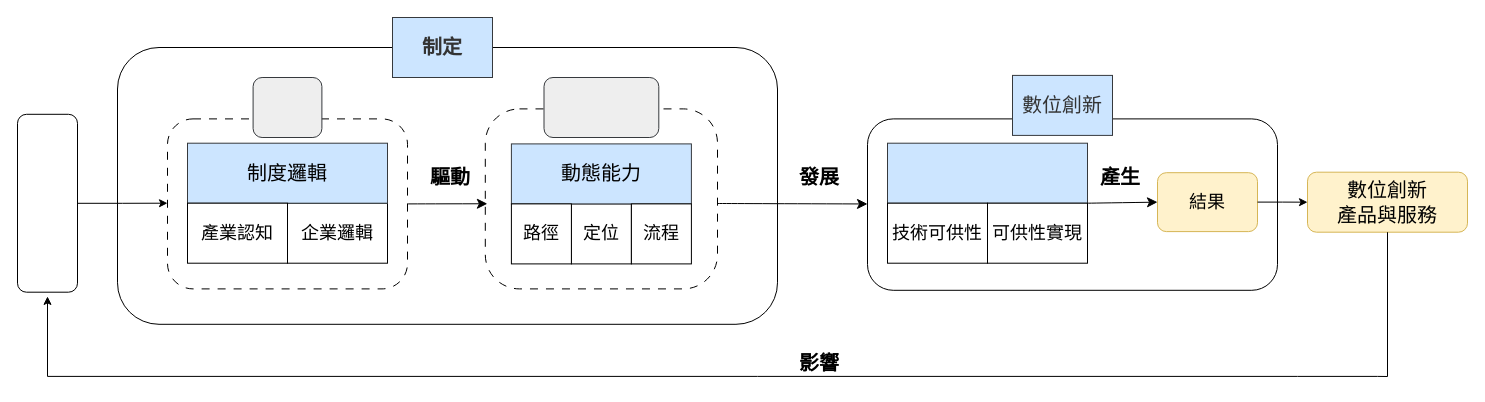
Image size: 1485x402. Some labels were removed from this diagram. Each missing label, with the box of its shape:
環 境: (16, 113, 78, 292)
科技可供性: (886, 142, 1088, 203)
認知: (252, 76, 322, 138)
資源整合 行動: (543, 76, 659, 138)
